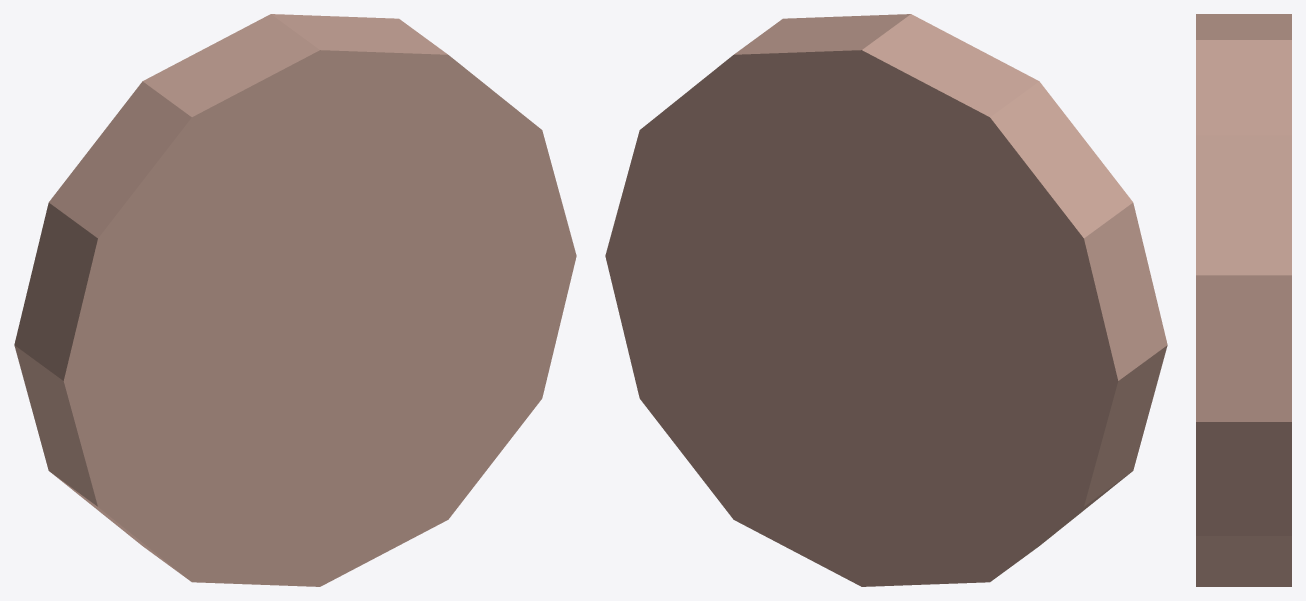
File: item_shield_cookie.glb
The picture shows the model from 3 angles, left to right: view 1: azimuth 30°, elevation 25°; view 2: azimuth 150°, elevation 25°; view 3: azimuth 270°, elevation 25°; orthographic projection. The views are drawn at different scales.
Visible parts, largest first — view 1: item_shield_cookie; view 2: item_shield_cookie; view 3: item_shield_cookie.
Boxes of the visible parts, x1,y1,x2,y2 form: item_shield_cookie: (14, 14, 576, 586); item_shield_cookie: (605, 14, 1167, 586); item_shield_cookie: (1196, 14, 1291, 586).
Bounding box in the file's own units: 0.9 × 0.9 × 0.15.
